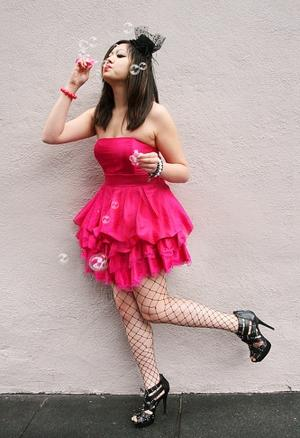person: (40, 32, 276, 434)
